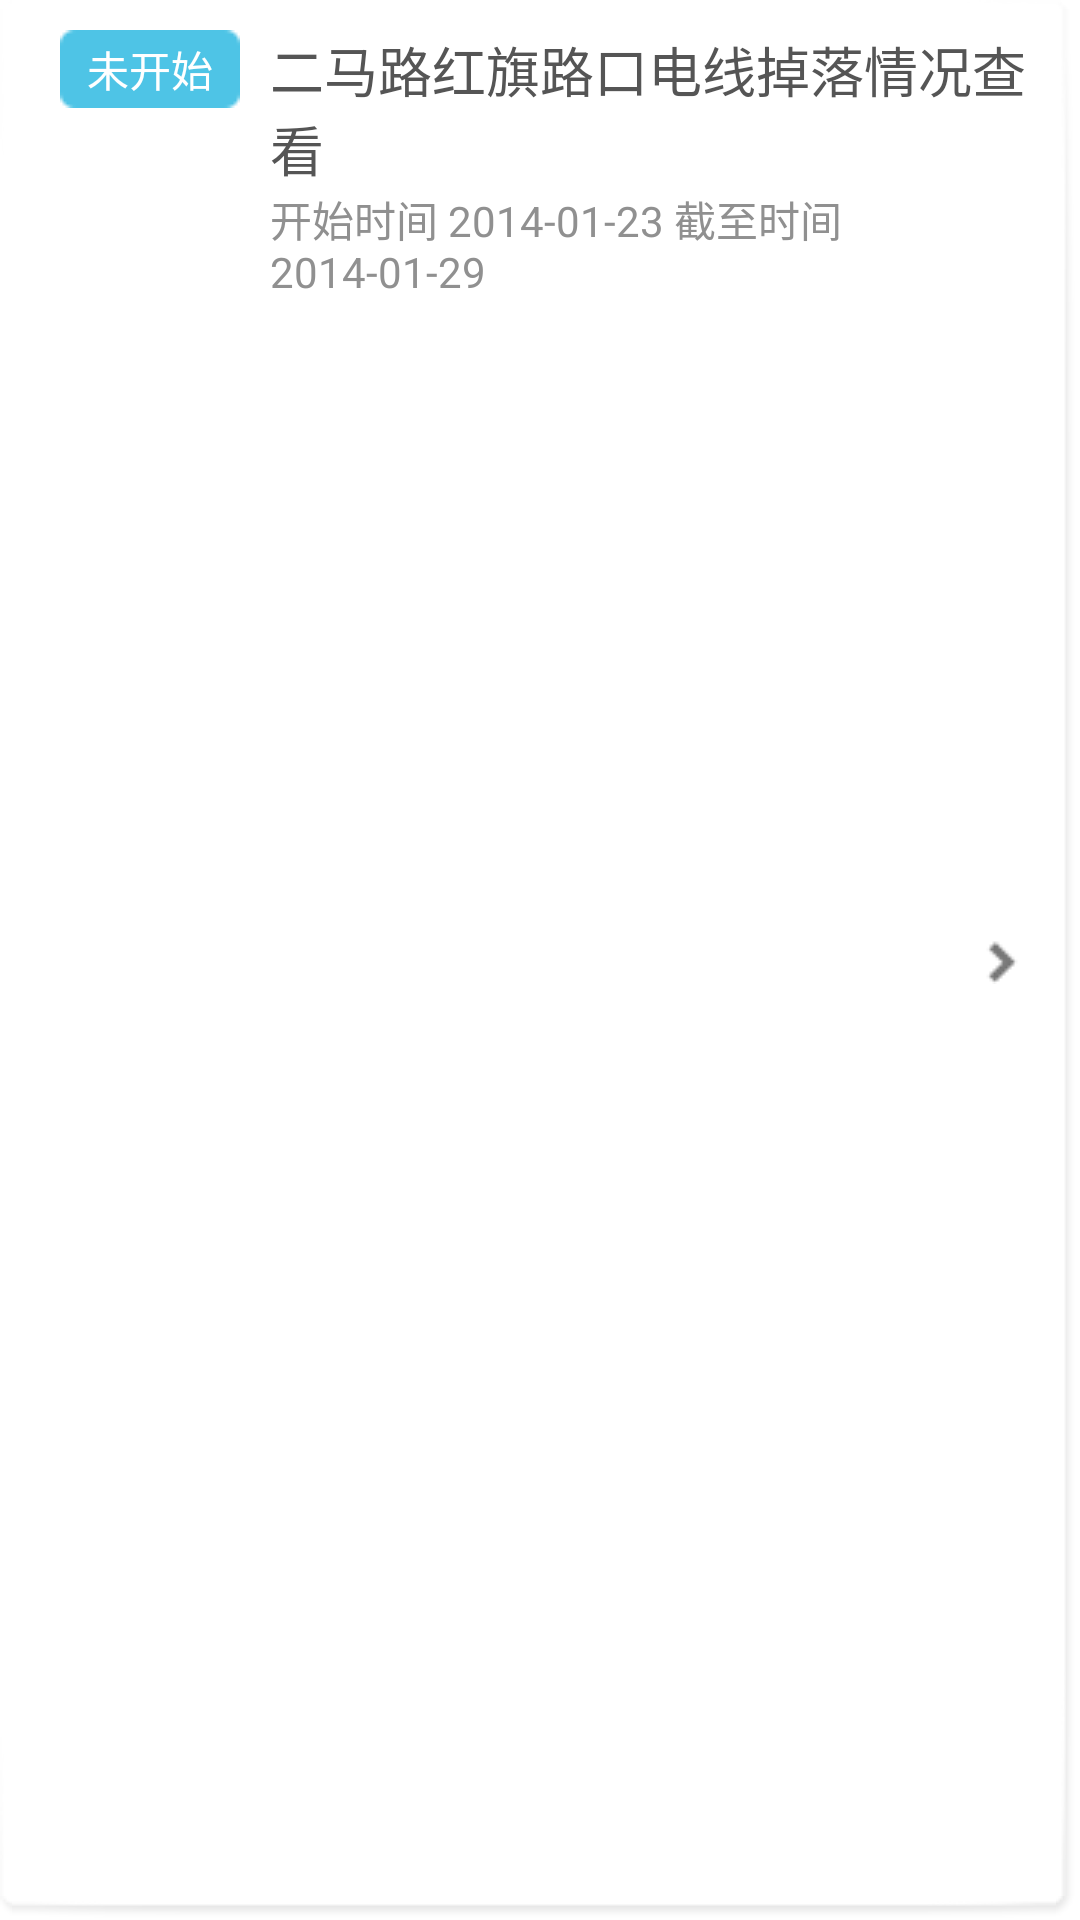

Point at icon controls on the screen. Image size 1080 × 1920, points as (x,y).
arrow right: (1002,962)
